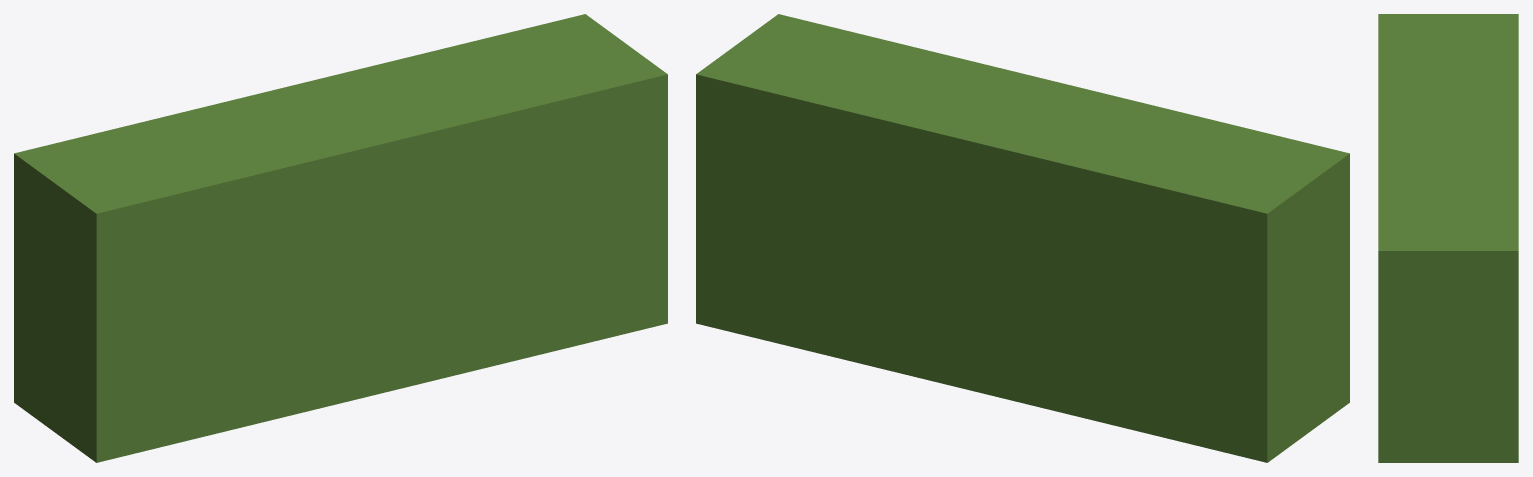
Rendered from Hedge1.fbx.
3 renders of one model, left to right at view 1: azimuth 30°, elevation 25°; view 2: azimuth 150°, elevation 25°; view 3: azimuth 270°, elevation 25°, orthographic. The views are drawn at different scales.
Parts seen in each view (by area): view 1: mergedBlocks; view 2: mergedBlocks; view 3: mergedBlocks.
Boxes of the visible parts, bbox=[...] form: mergedBlocks: bbox=[14, 14, 667, 462]; mergedBlocks: bbox=[696, 14, 1349, 462]; mergedBlocks: bbox=[1378, 14, 1518, 462].
Size of the model in its own units: 10.8 by 4.5 by 2.7.
